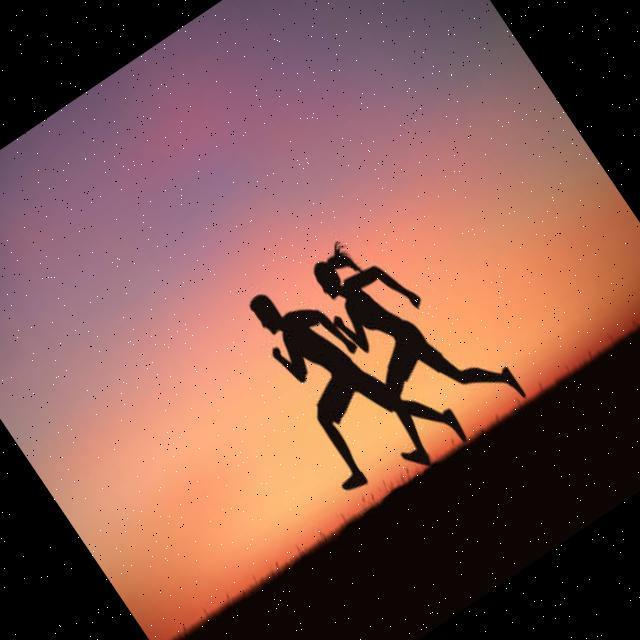Person: (282, 200, 530, 476), (227, 240, 470, 512)
